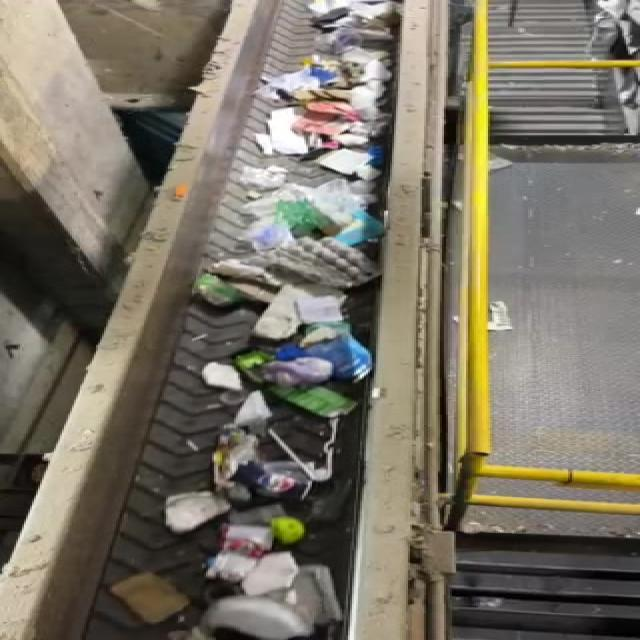metal: (212, 447, 331, 506)
paper: (112, 571, 191, 625), (145, 486, 228, 532), (232, 388, 292, 437)
pp: (215, 519, 270, 584)
